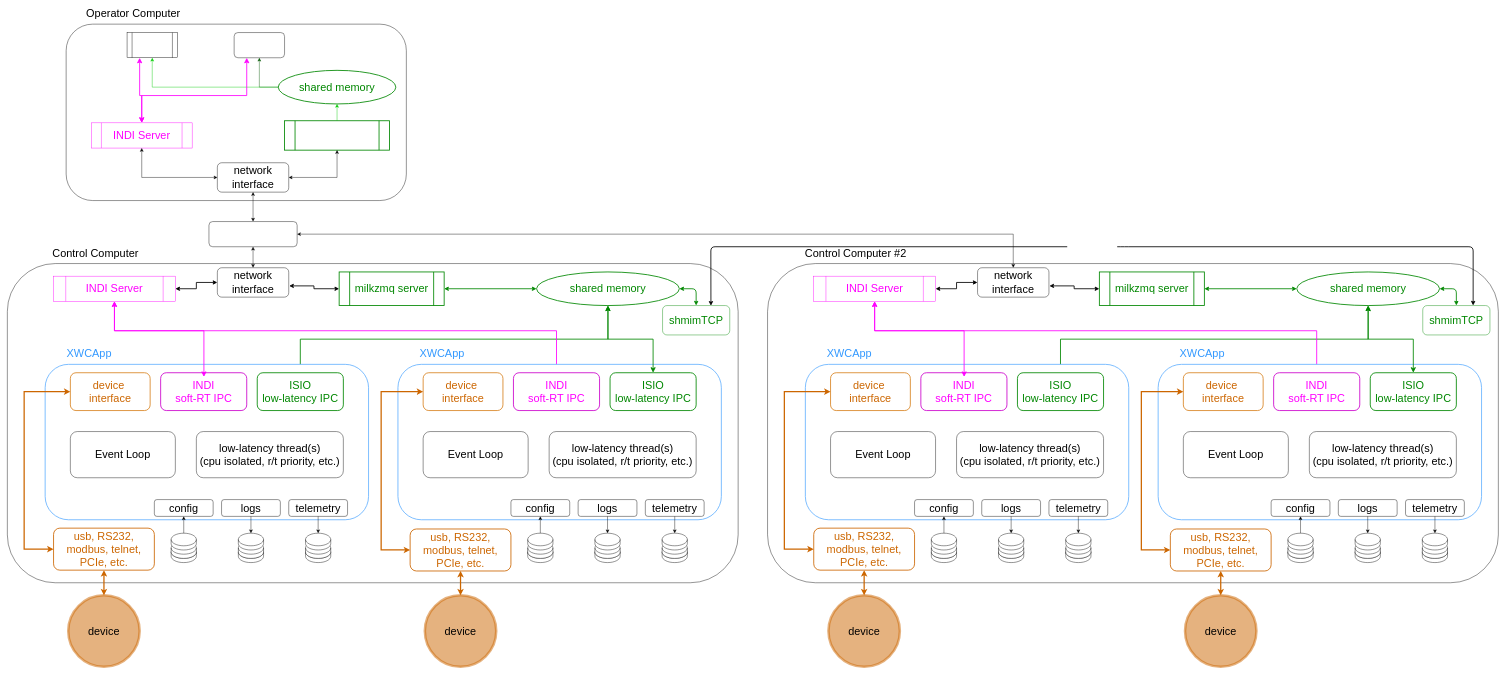
The diagram is 1506 pixels wide and 675 high, and some of its shapes have lost their labels. The centre of each missing label's shape, as x and y in pixels:
GUI: the point at 259,45
milkzmq client: the point at 337,135
script: the point at 152,45
tcp/ip network: the point at 253,234
